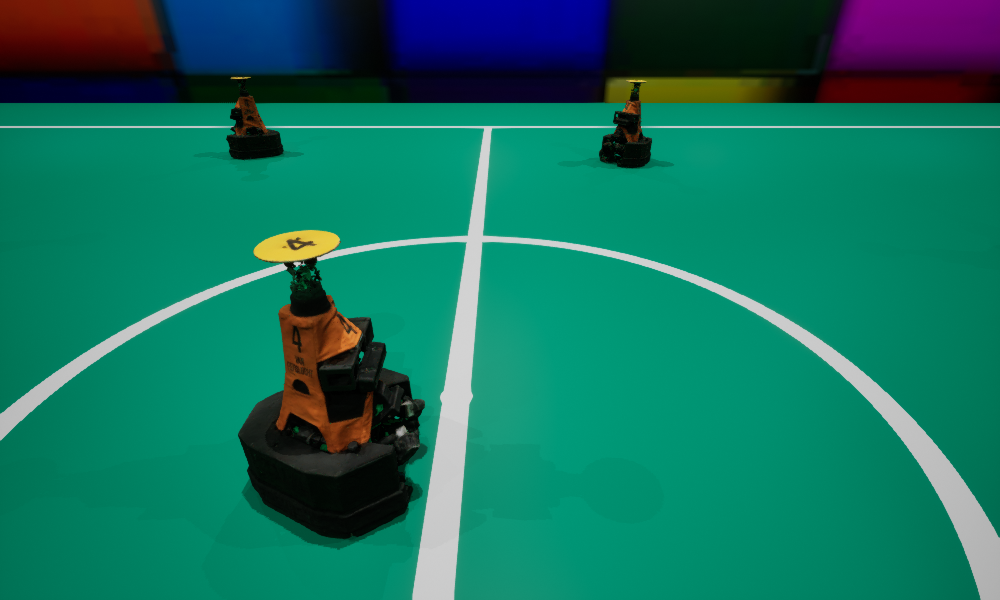0 orange robot TechUnited: (238, 230, 424, 538), (226, 77, 283, 158), (599, 80, 651, 166)
